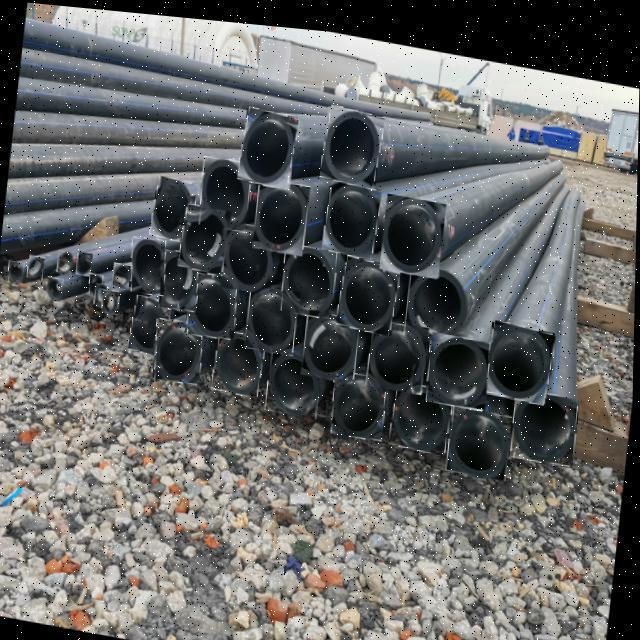pipe: (484, 310, 556, 394), (381, 186, 446, 270), (320, 98, 385, 181), (405, 256, 470, 336), (513, 379, 580, 455), (337, 248, 401, 327), (237, 102, 298, 184), (390, 372, 455, 446), (448, 396, 513, 470), (322, 173, 382, 252), (428, 325, 491, 400), (252, 171, 311, 250), (367, 311, 429, 386), (302, 303, 361, 376), (281, 238, 337, 312), (222, 216, 277, 290), (267, 343, 324, 412), (245, 279, 300, 350), (199, 152, 251, 226), (179, 199, 232, 270), (333, 363, 387, 432), (213, 324, 267, 392), (188, 268, 237, 334), (150, 172, 198, 239), (156, 314, 203, 379), (129, 291, 172, 353), (160, 246, 199, 307), (132, 234, 166, 292), (113, 260, 132, 285), (28, 254, 45, 279), (47, 275, 64, 299), (76, 250, 93, 274), (104, 287, 120, 312), (58, 248, 74, 272), (8, 261, 24, 284), (95, 281, 109, 304), (90, 272, 104, 293)
